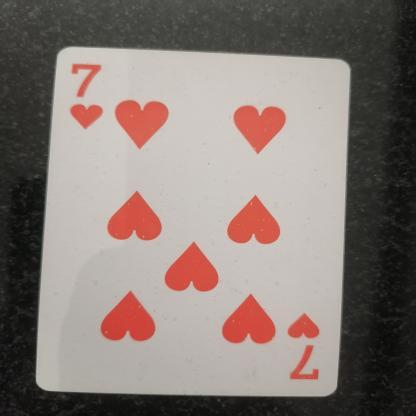7H: (58, 58, 122, 138), (289, 304, 337, 392)
